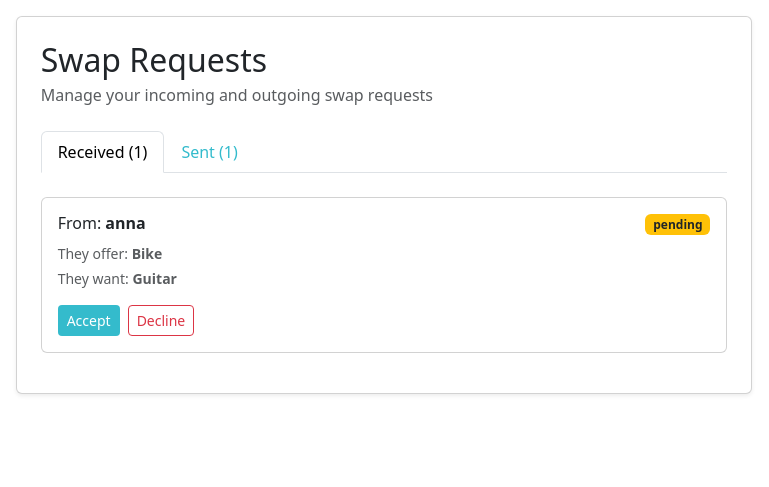
Scenario: SwapRequestsPage › shows an error if accepting fails
Expected: the heading "From: anna" is shown, [58, 214, 146, 234]
Click the button "Accept" at (89,320), box [58, 305, 120, 336]
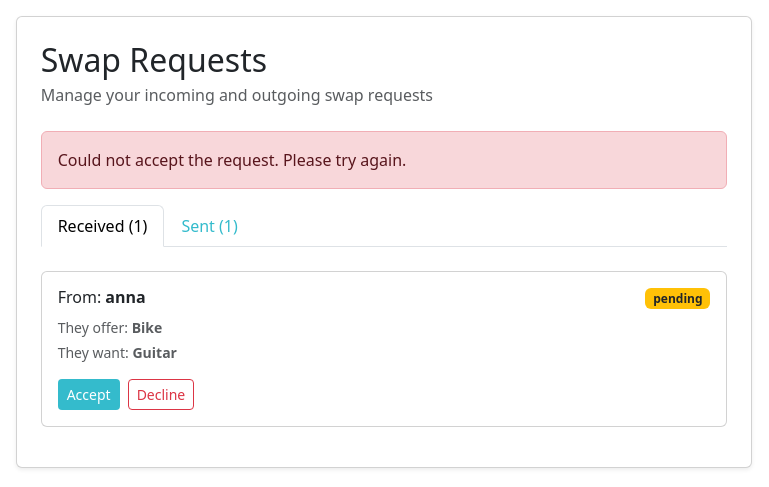
Result: the text "Could not accept the request. Please try again." is shown at [41, 131, 727, 189]
